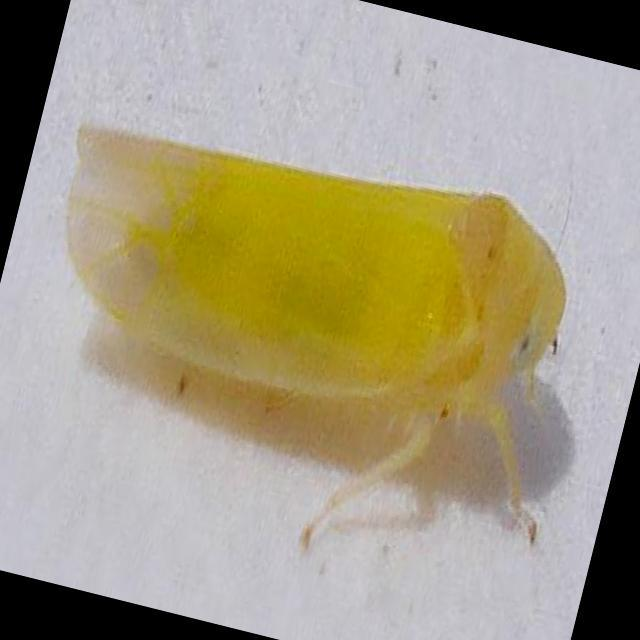green leaf hopper: (67, 127, 564, 547)
